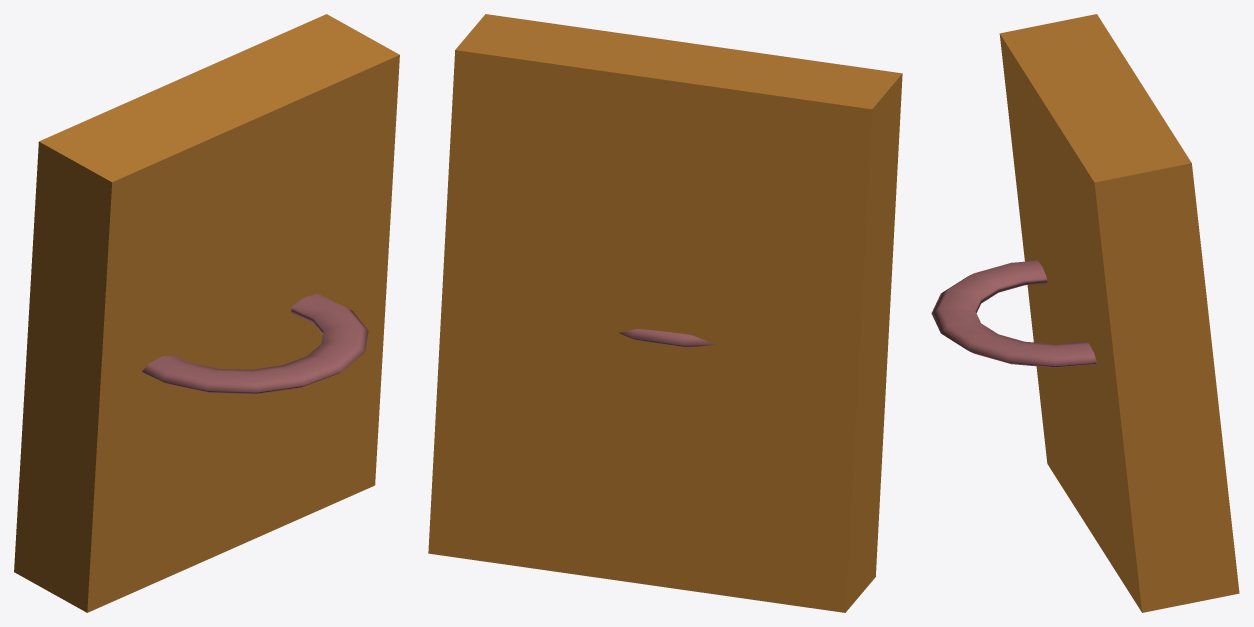
The model's file is wpn_r_05.glb.
3 views of the same model, side by side, from view 1: azimuth 30°, elevation 25°; view 2: azimuth 150°, elevation 25°; view 3: azimuth 270°, elevation 25° (orthographic). The views are drawn at different scales.
Visible parts, largest first — view 1: book, sigil; view 2: book, sigil; view 3: book, sigil.
Part boxes in pixels (x1,y1,x2,y2): book: (14, 14, 399, 612); sigil: (142, 293, 368, 394); book: (428, 14, 902, 612); sigil: (619, 329, 715, 347); book: (999, 14, 1239, 612); sigil: (931, 260, 1096, 367).
Bounding box in the file's own units: 0.4342 × 0.5384 × 0.3357.
